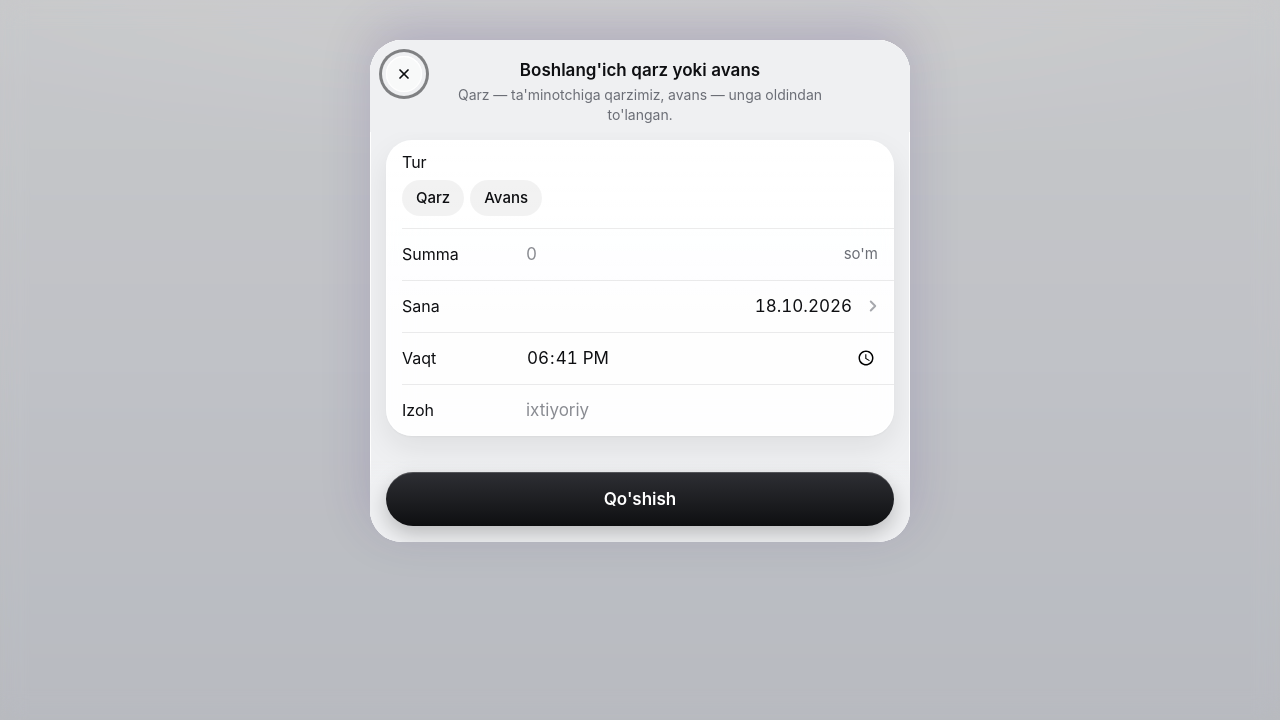
Test: the dialog refuses in the API's words before asking
The width and height of the screenshot is (1280, 720).
Click the button "Qo'shish" at {"x": 640, "y": 499}, box [386,472,894,526]
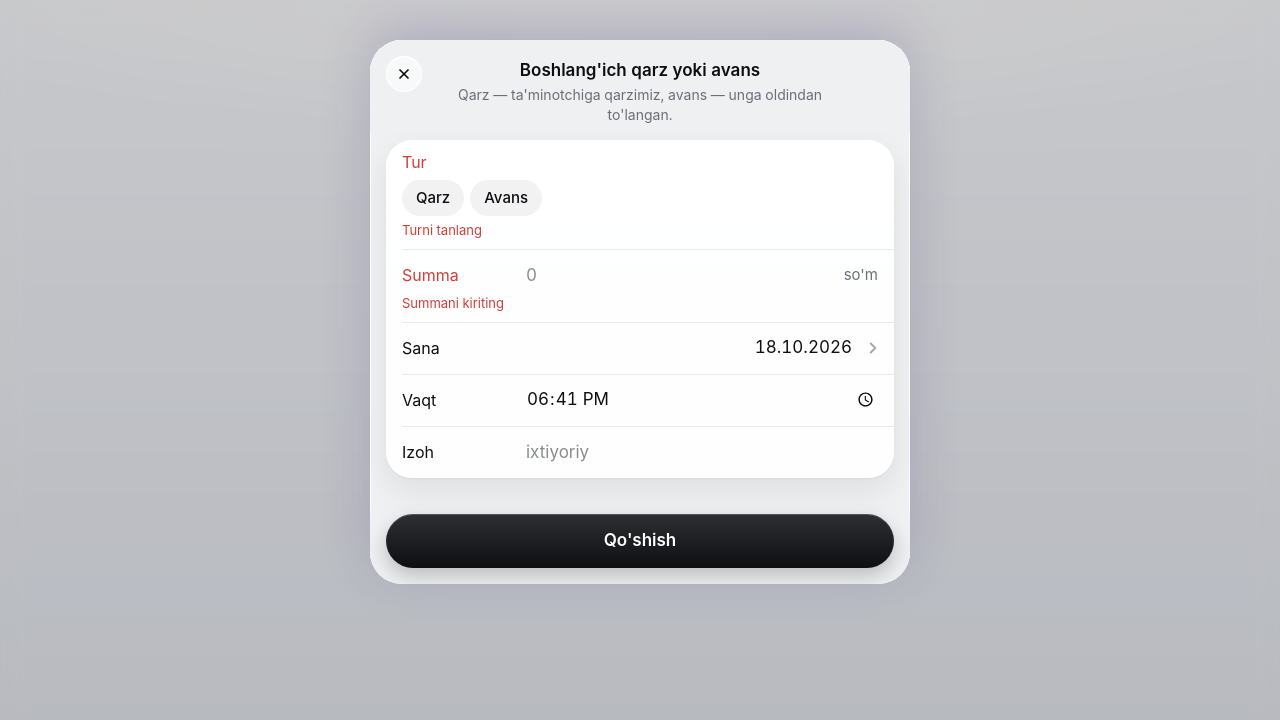
Now the text "Turni tanlang" is shown, box [402,222,482,238]
Now the text "Summani kiriting" is shown, box [402,295,504,311]
